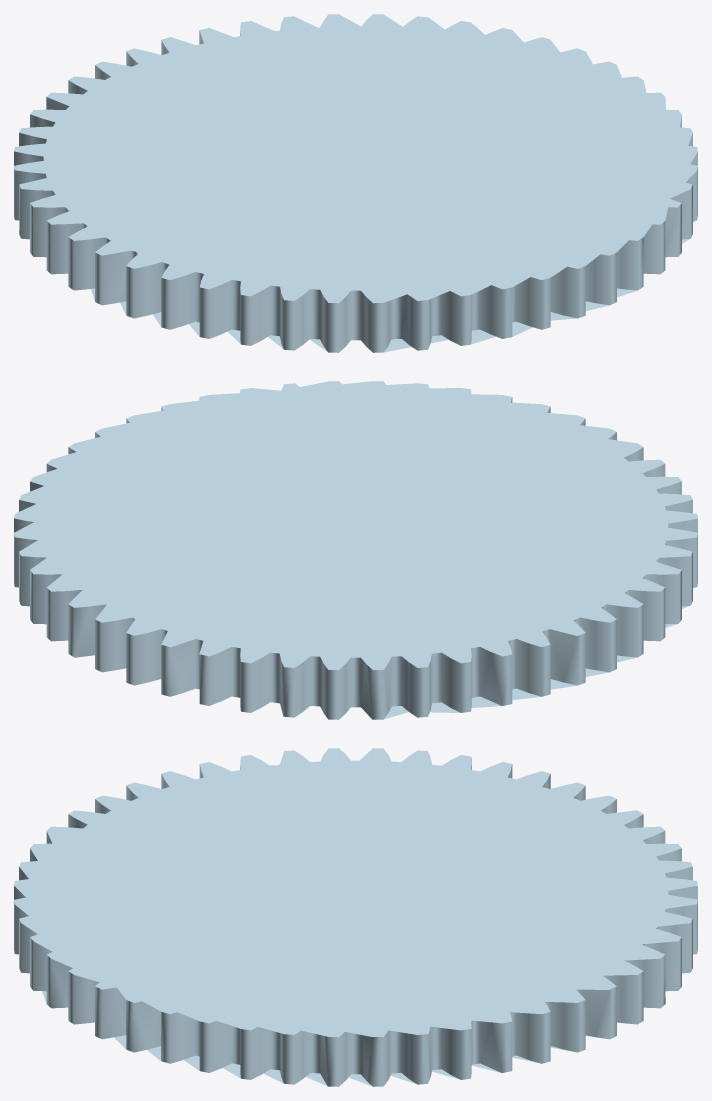
File: hex48t.fbx
3 views of the same model, one above another, from view 1: azimuth 30°, elevation 25°; view 2: azimuth 150°, elevation 25°; view 3: azimuth 270°, elevation 25° (orthographic).
Parts seen in each view (by area): view 1: Spur gear (48 teeth); view 2: Spur gear (48 teeth); view 3: Spur gear (48 teeth).
Part boxes in pixels (left/top/right/bottom): Spur gear (48 teeth): left=14, top=14, right=697, bottom=352; Spur gear (48 teeth): left=14, top=381, right=697, bottom=719; Spur gear (48 teeth): left=14, top=748, right=697, bottom=1086.
Bounding box in the file's own units: 6.34 × 0.508 × 6.34.
